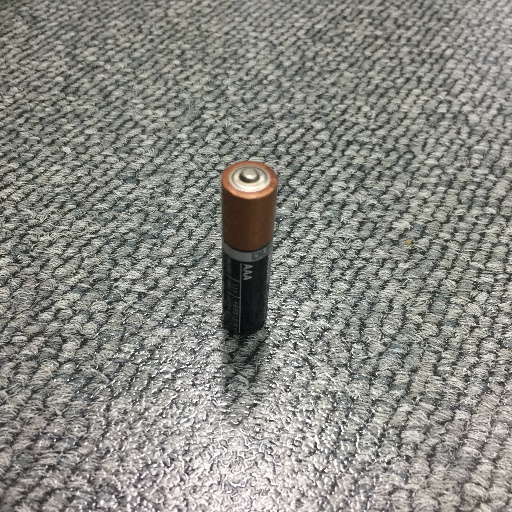Battery_0: (200, 149, 292, 351)
